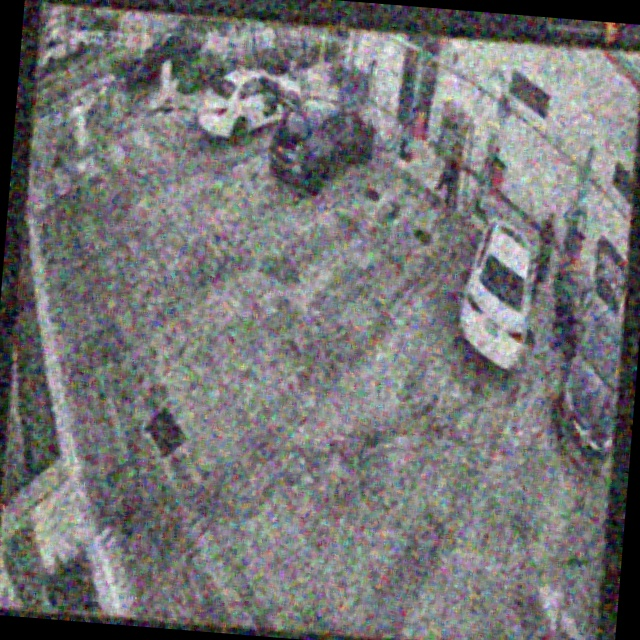Car: (450, 209, 546, 380), (268, 66, 382, 201), (196, 65, 305, 150)
